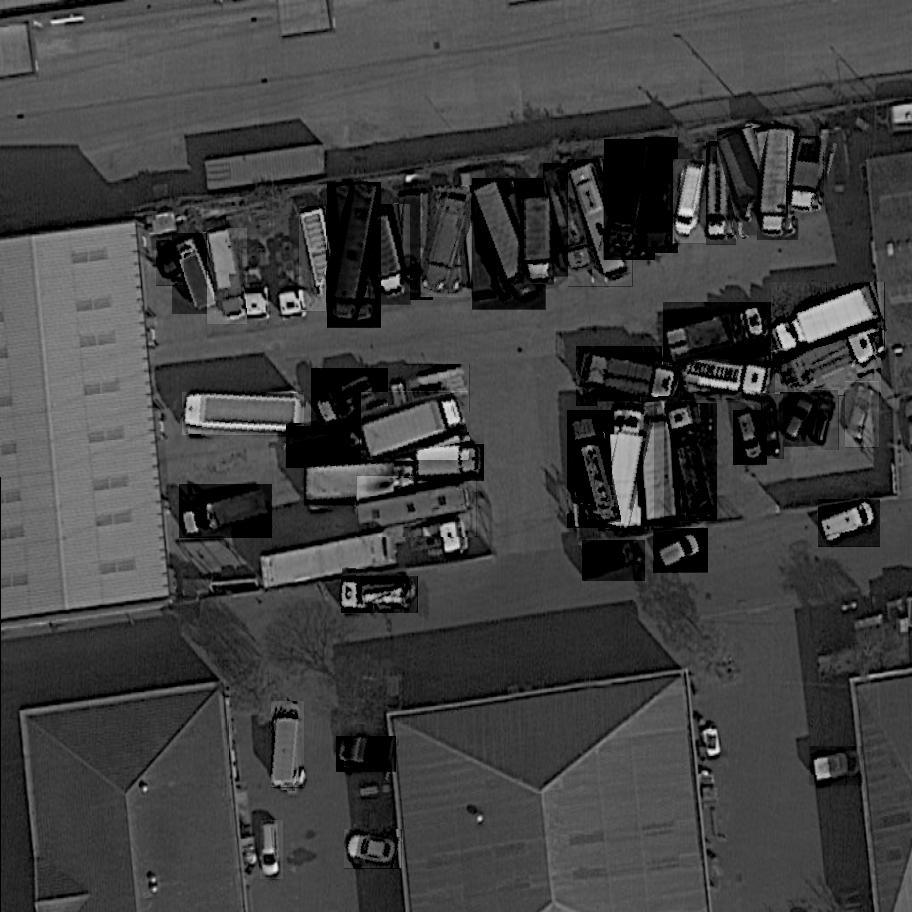large-vehicle: (472, 179, 546, 311), (768, 282, 885, 359), (566, 160, 634, 288), (327, 181, 381, 329), (774, 326, 882, 399), (355, 476, 482, 537), (359, 392, 471, 460), (599, 402, 656, 534), (663, 303, 773, 369), (604, 139, 660, 262), (717, 128, 779, 237), (568, 410, 623, 528), (664, 402, 718, 521), (574, 347, 681, 407), (543, 163, 598, 277), (422, 185, 476, 300), (359, 205, 416, 306), (182, 392, 304, 436), (303, 461, 421, 506), (178, 484, 273, 538), (679, 349, 776, 401), (299, 206, 346, 312), (757, 126, 799, 243), (311, 369, 389, 430), (641, 397, 679, 522), (171, 233, 224, 314), (390, 365, 473, 415), (644, 137, 678, 254), (207, 228, 248, 324), (400, 190, 433, 302), (285, 426, 367, 468), (673, 159, 711, 244), (706, 141, 736, 245), (788, 136, 826, 218), (271, 701, 304, 789), (341, 576, 417, 613), (525, 196, 554, 284), (417, 444, 485, 480), (336, 736, 396, 772)
small-vehicle: (819, 499, 883, 549), (580, 540, 647, 582), (654, 528, 709, 575), (844, 382, 883, 448), (809, 747, 867, 790), (345, 829, 402, 871), (779, 393, 821, 447), (808, 391, 842, 451), (734, 410, 768, 467), (761, 394, 785, 459), (260, 820, 284, 880), (155, 240, 185, 286)
